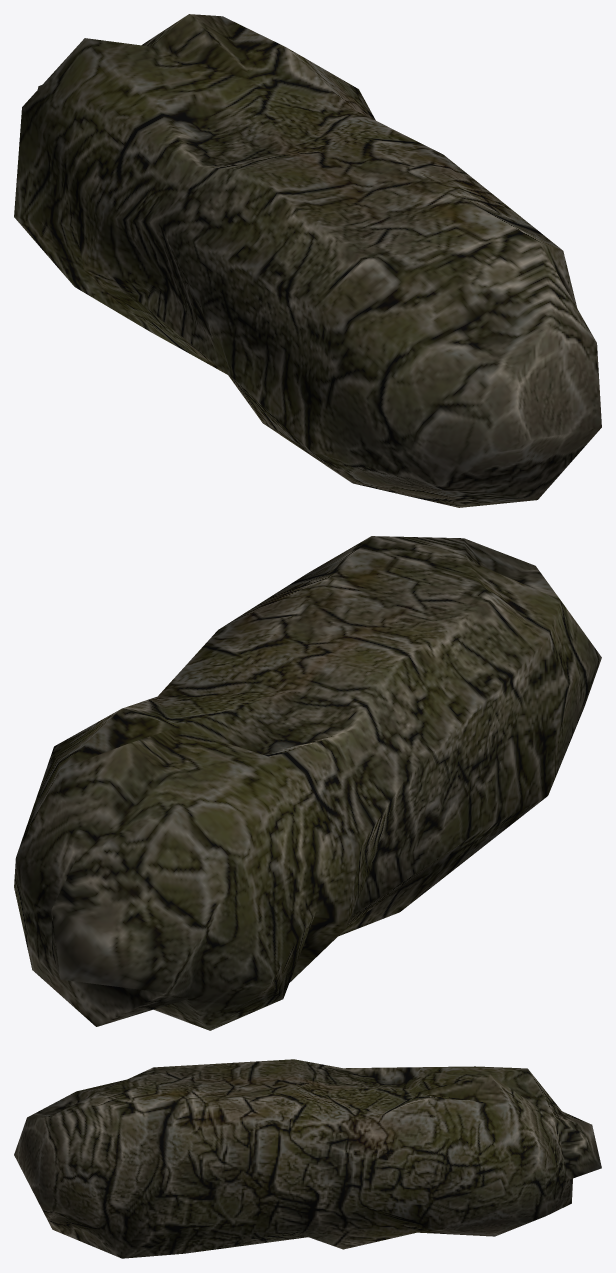
Rendered from MEP_Rock_03.fbx.
The picture shows the model from 3 angles, top to bottom: view 1: azimuth 30°, elevation 25°; view 2: azimuth 150°, elevation 25°; view 3: azimuth 270°, elevation 25°; orthographic projection. The views are drawn at different scales.
Visible parts, largest first — view 1: MEP_Rock_03; view 2: MEP_Rock_03; view 3: MEP_Rock_03.
Part boxes in pixels (bbox=[...]): MEP_Rock_03: bbox=[14, 14, 601, 507]; MEP_Rock_03: bbox=[14, 536, 601, 1030]; MEP_Rock_03: bbox=[14, 1059, 601, 1258].
Size of the model in its own units: 4.67 by 4.44 by 13.31.
